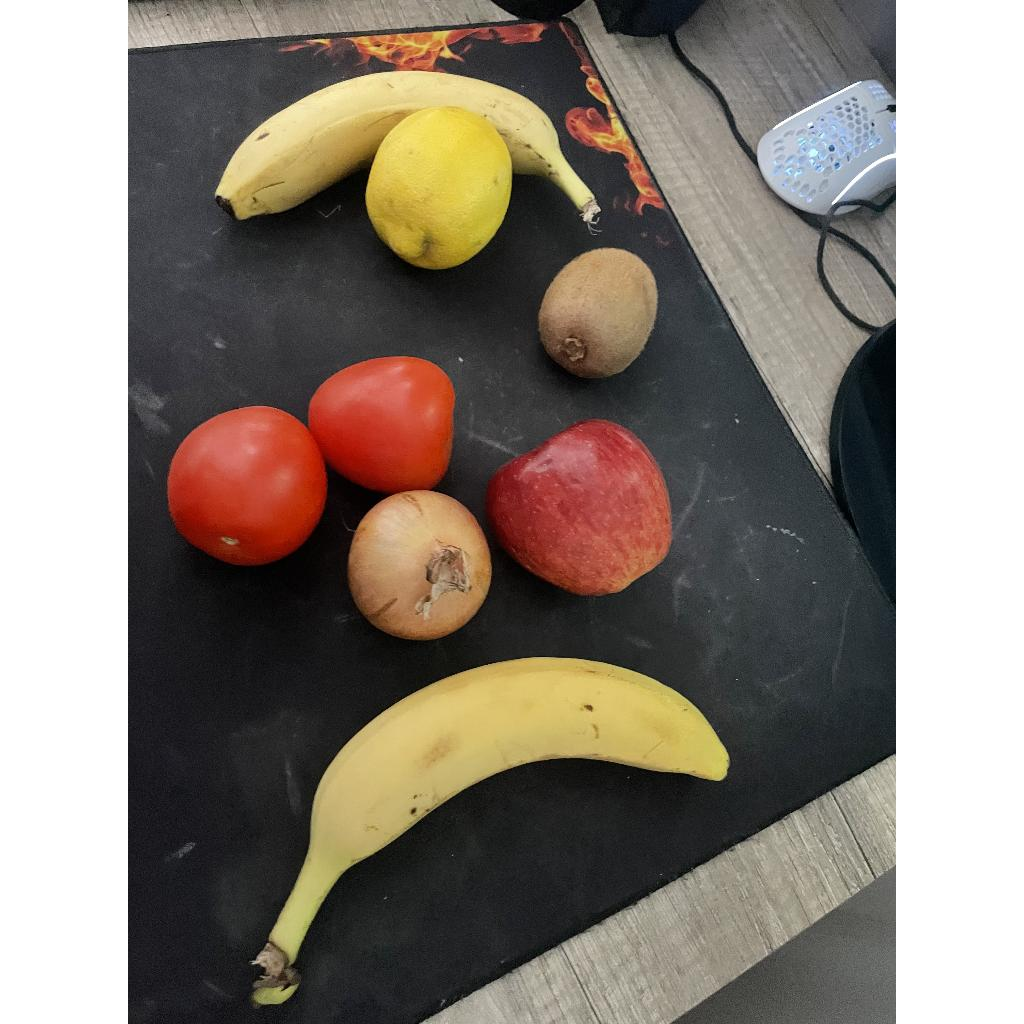apple: (486, 420, 672, 596)
banana: (252, 658, 728, 1008), (216, 72, 594, 222)
kiwi: (538, 248, 658, 378)
lemon: (366, 106, 512, 270)
tomato: (168, 406, 326, 566), (308, 356, 454, 494)
